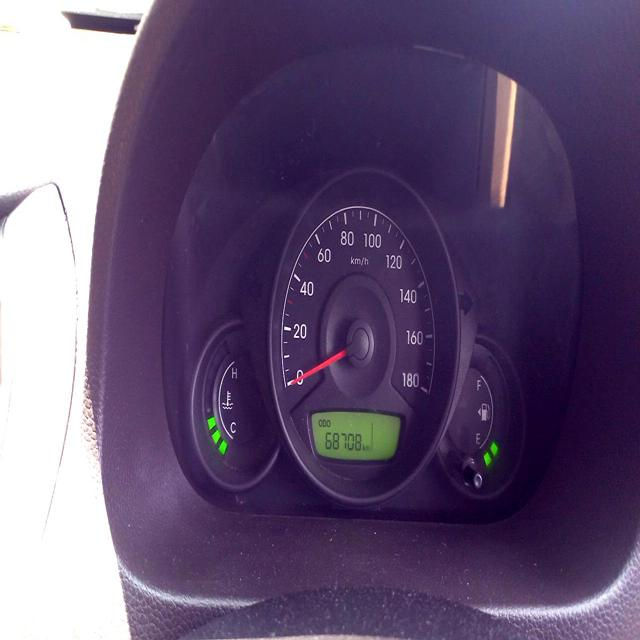odometer: (323, 431, 362, 454)
